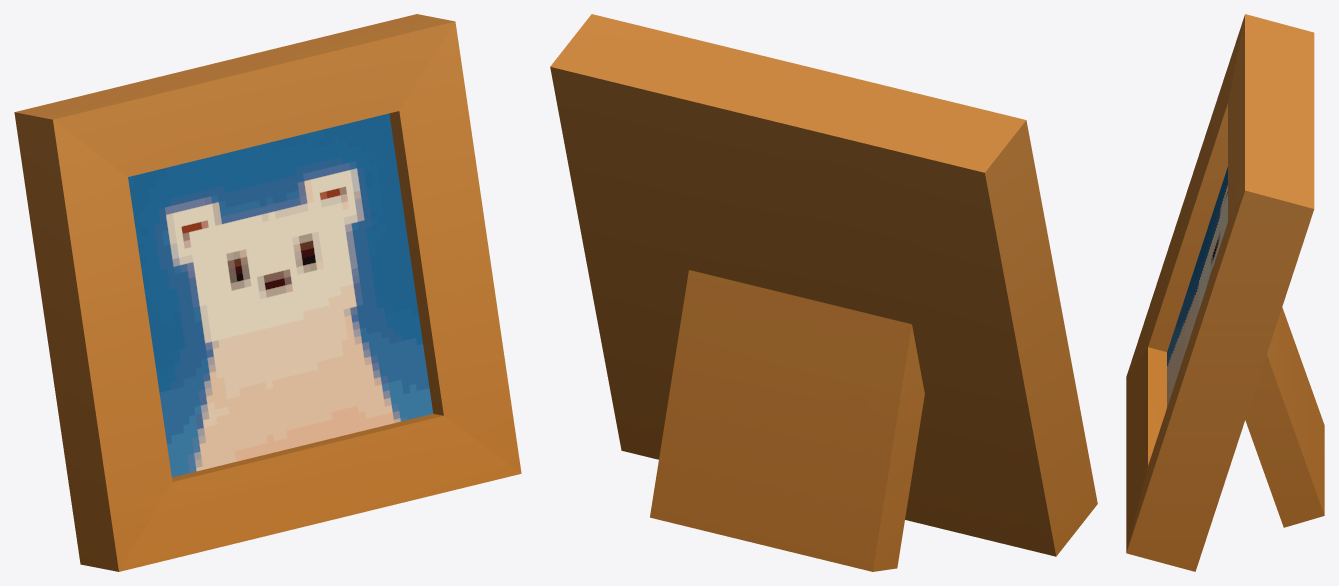
Rendered from TablePhoto_Square_Small_oak.fbx.
The picture shows the model from 3 angles, left to right: view 1: azimuth 30°, elevation 25°; view 2: azimuth 150°, elevation 25°; view 3: azimuth 270°, elevation 25°; orthographic projection. The views are drawn at different scales.
Parts seen in each view (by area): view 1: TablePhoto_Square_Small.oak; view 2: TablePhoto_Square_Small.oak; view 3: TablePhoto_Square_Small.oak.
Part boxes in pixels (left/top/right/bottom): TablePhoto_Square_Small.oak: left=14, top=14, right=521, bottom=571; TablePhoto_Square_Small.oak: left=550, top=14, right=1097, bottom=571; TablePhoto_Square_Small.oak: left=1126, top=14, right=1324, bottom=571.
Size of the model in its own units: 40.22 by 40.54 by 19.1.
